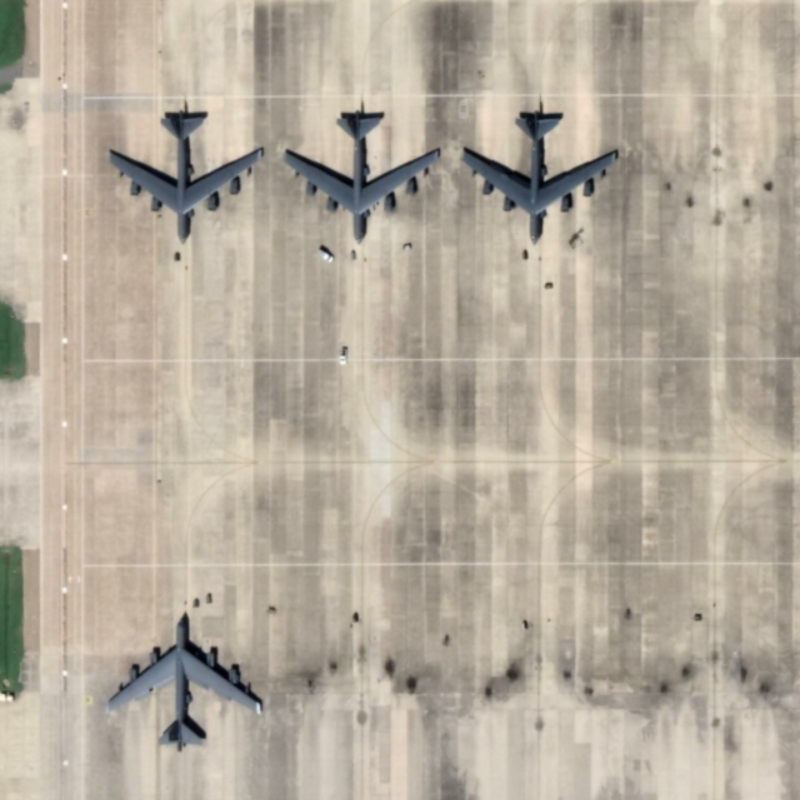A8: (99, 606, 268, 761), (276, 100, 448, 250), (99, 96, 270, 245), (455, 100, 627, 248)
